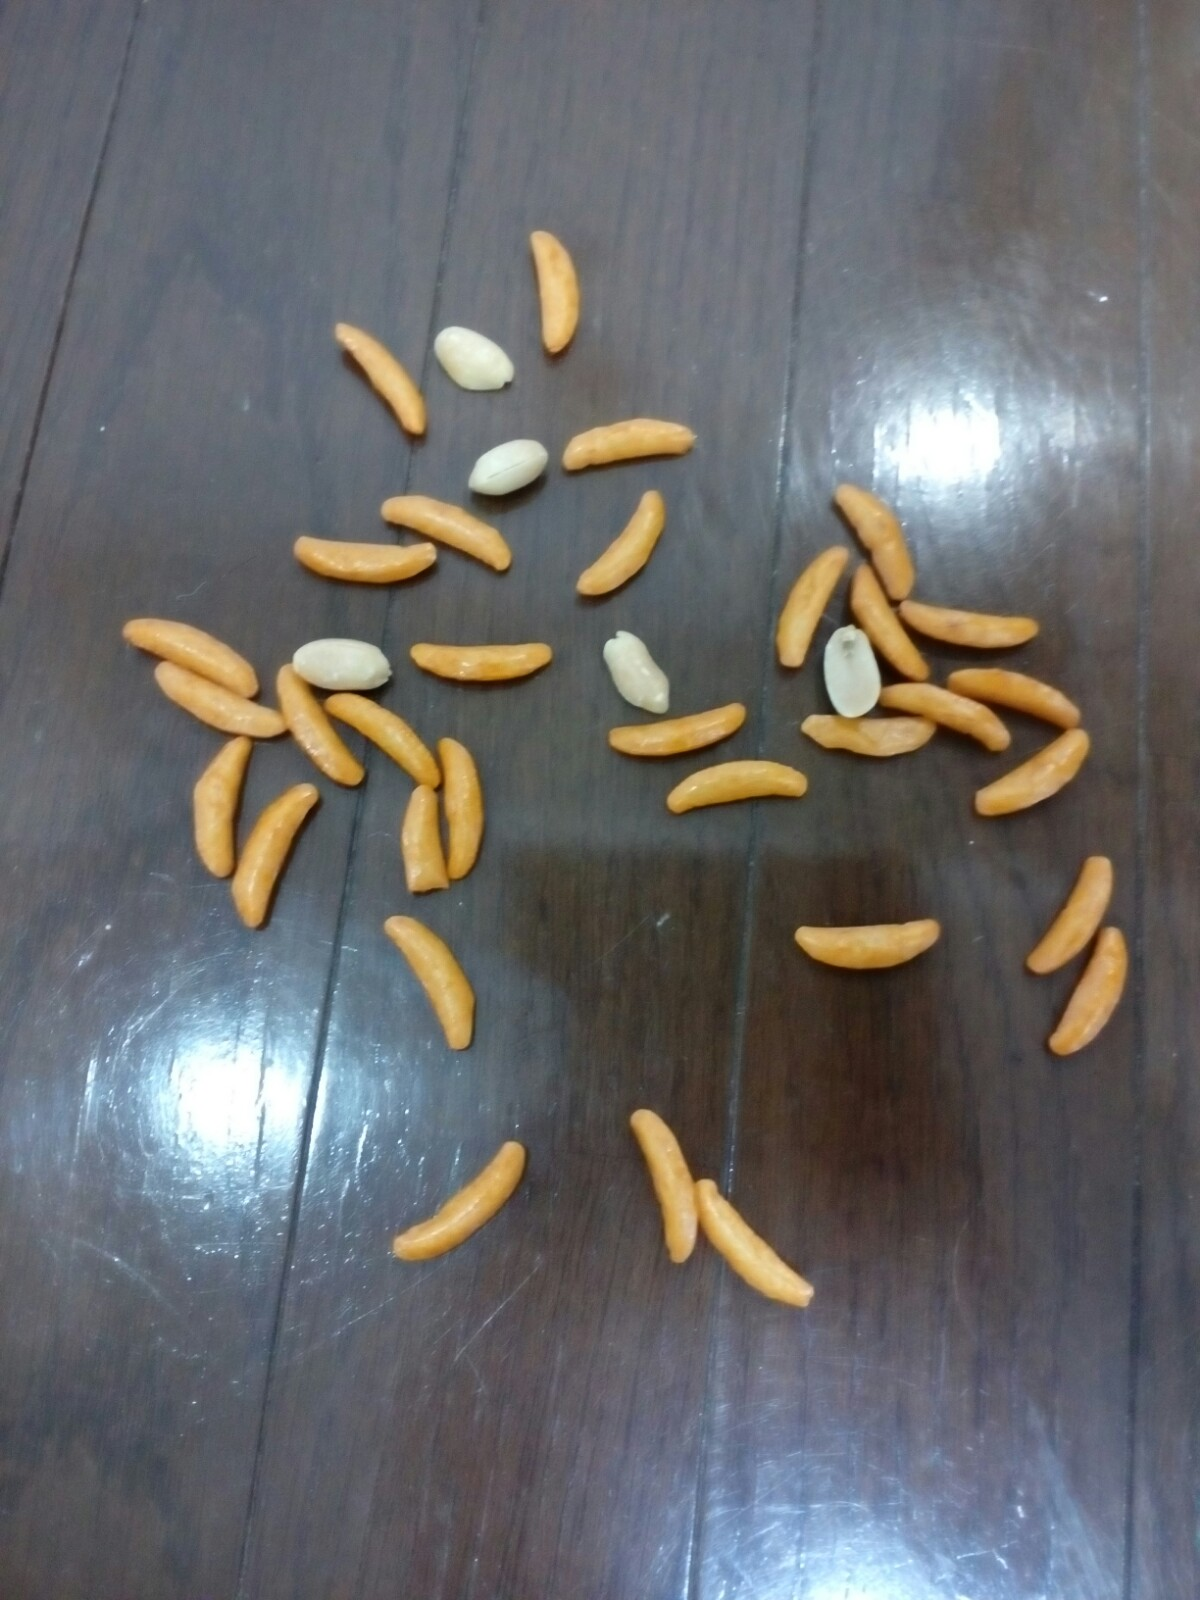peanut: (592, 614, 676, 736), (282, 629, 405, 697), (426, 321, 518, 399), (821, 621, 886, 731), (463, 433, 552, 510)
